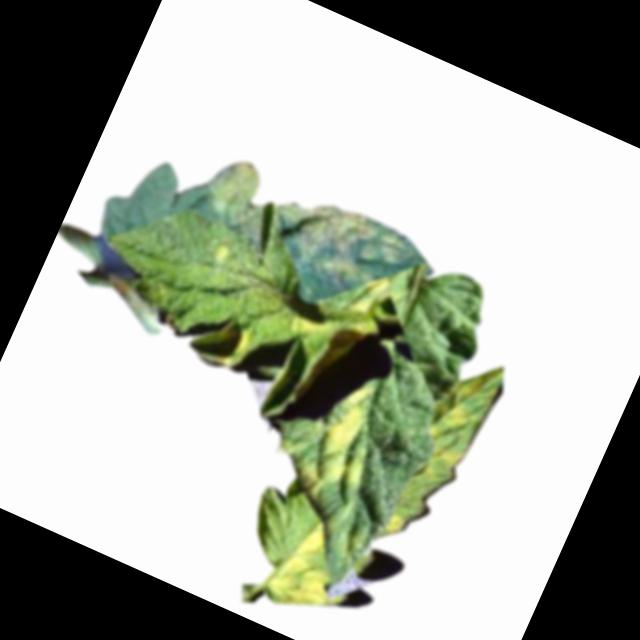Leaf_Mold: (183, 145, 415, 311), (397, 347, 512, 516), (286, 366, 400, 513), (283, 252, 394, 367), (261, 514, 357, 625), (183, 298, 259, 376), (379, 509, 411, 544)
